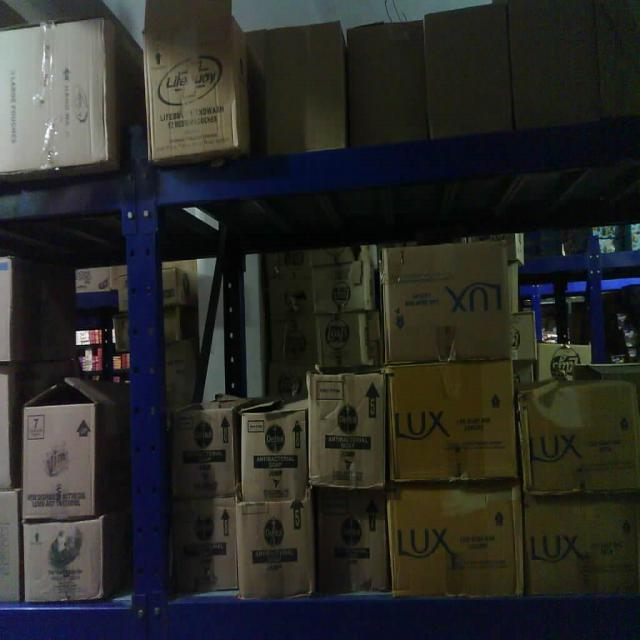cardboxes: (0, 15, 113, 168), (386, 361, 521, 485), (388, 477, 524, 600), (381, 242, 515, 363), (242, 18, 347, 158), (516, 378, 639, 494), (146, 12, 237, 163), (519, 492, 639, 601), (424, 0, 516, 136), (344, 14, 428, 149), (306, 370, 392, 490), (21, 398, 98, 524), (315, 492, 391, 596), (20, 514, 106, 604), (237, 498, 315, 596), (238, 408, 310, 506), (170, 404, 239, 501), (173, 502, 240, 592)
